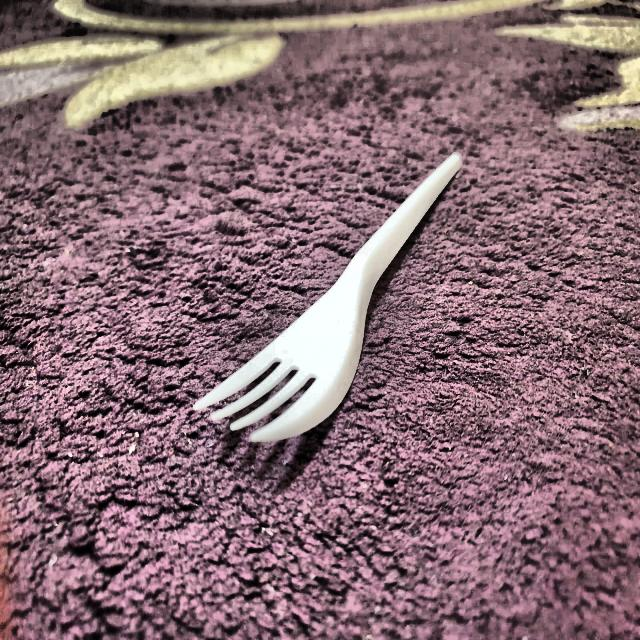plastic utensil: (184, 147, 471, 473)
